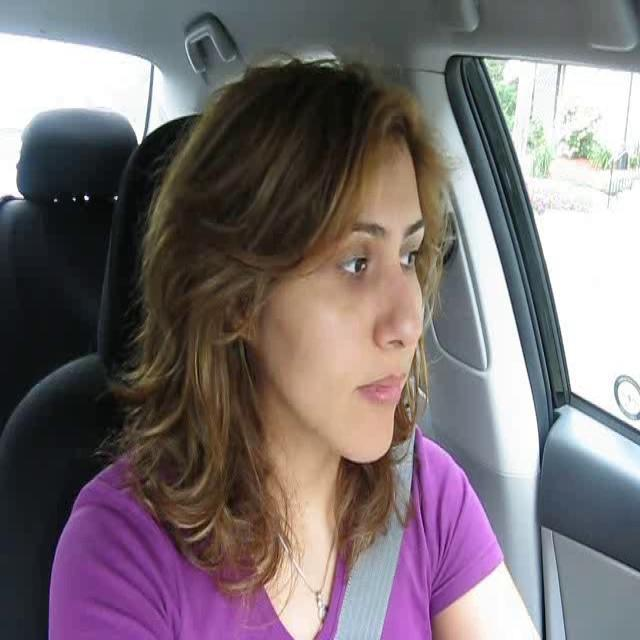close: (354, 368, 407, 408)
